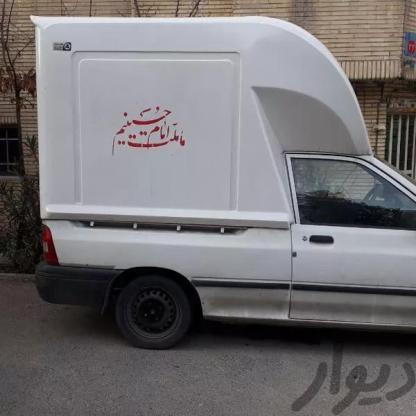Car: (0, 7, 416, 330)
